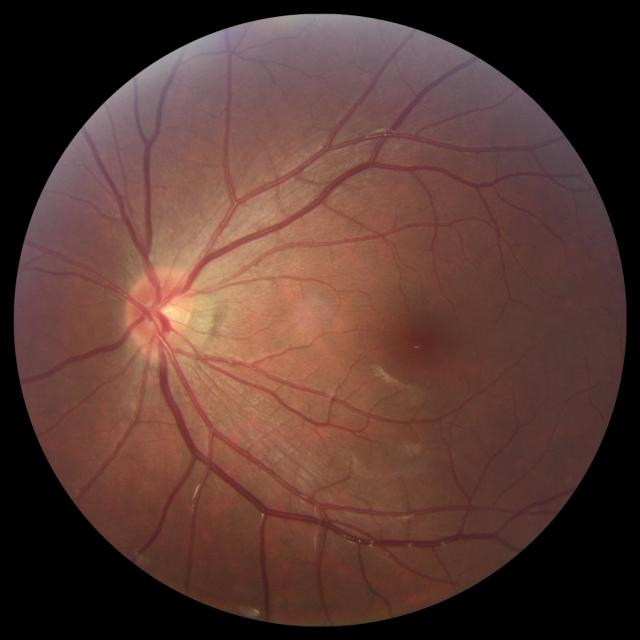OC: (145, 297, 184, 335)
OD: (122, 263, 196, 360)
